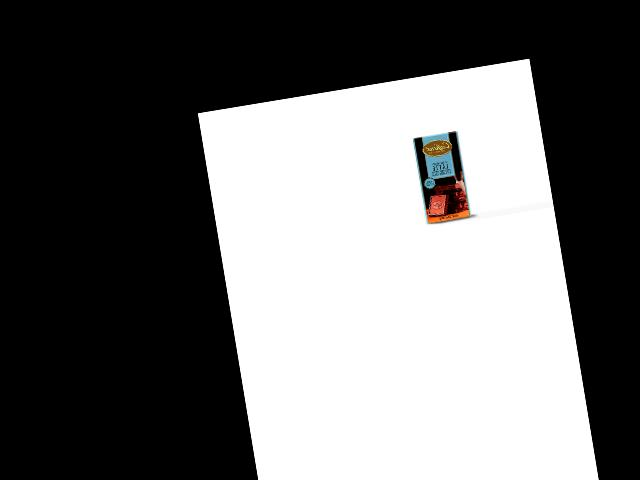chocolate: (411, 129, 473, 225)
